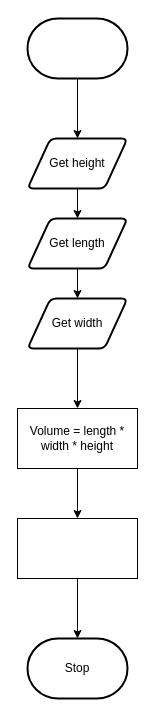
The diagram is 155 pixels wide and 716 high, and some of its shapes have lost their labels. The shapes that lost their labels are listed below. From the top down, each one's centre as x and y in pixels, then its label:
At point 77,48: "Start".
At point 77,548: "return Volume".
